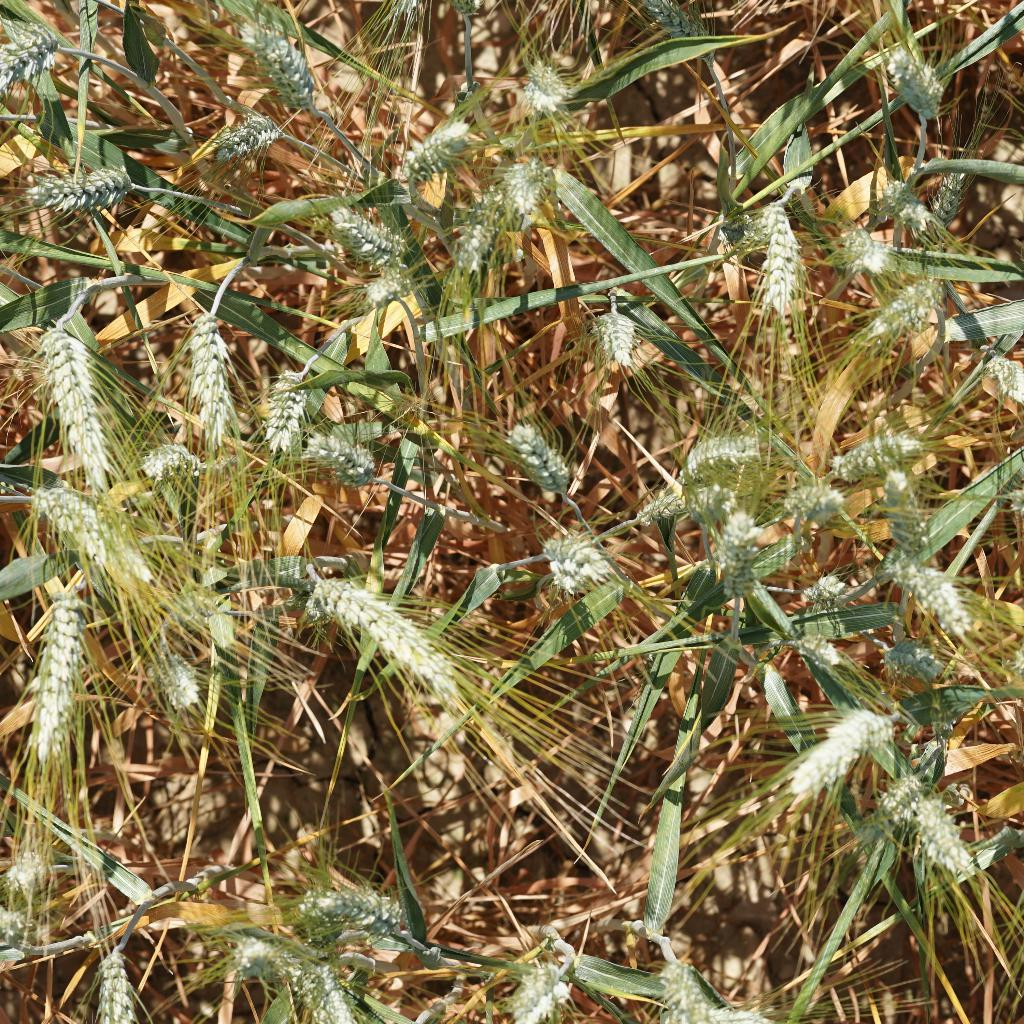0-0: (273, 564, 463, 692), (27, 484, 174, 609), (34, 306, 120, 481), (788, 689, 900, 807), (478, 403, 593, 507), (32, 583, 93, 772), (514, 515, 628, 602), (844, 264, 974, 339), (292, 421, 406, 505), (292, 870, 414, 945), (870, 18, 956, 123), (180, 295, 235, 447), (307, 194, 422, 264), (238, 19, 328, 107), (909, 804, 1001, 889), (376, 108, 479, 183), (666, 413, 776, 482), (867, 468, 941, 570), (88, 926, 160, 1024), (193, 100, 292, 171), (754, 204, 804, 343), (25, 156, 138, 217), (823, 413, 929, 478), (885, 567, 979, 638), (496, 156, 580, 235), (705, 514, 770, 610), (253, 357, 316, 456), (331, 253, 415, 326), (572, 291, 649, 369), (628, 0, 728, 58), (773, 620, 864, 680), (916, 137, 978, 221), (875, 159, 946, 232), (649, 948, 717, 1023), (515, 55, 586, 124), (227, 926, 302, 990), (761, 473, 847, 527), (294, 963, 370, 1024), (0, 24, 73, 85), (873, 765, 934, 837), (511, 961, 580, 1024), (772, 613, 841, 676), (135, 433, 205, 494), (437, 209, 499, 275), (866, 634, 944, 686), (833, 219, 908, 273), (970, 342, 1024, 417), (150, 642, 210, 709), (804, 564, 859, 630), (676, 481, 744, 534), (0, 903, 47, 979), (8, 829, 56, 903), (608, 479, 683, 523), (658, 999, 790, 1023)
